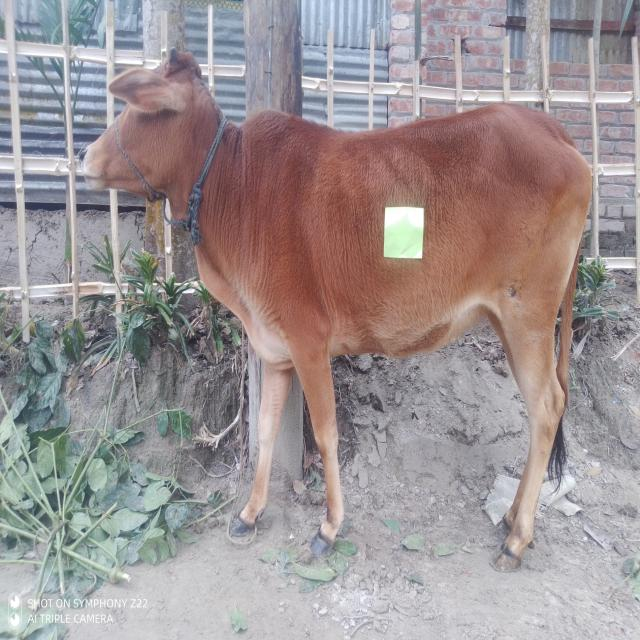badan_sapi: (260, 134, 594, 365)
sapi: (70, 44, 598, 579)
